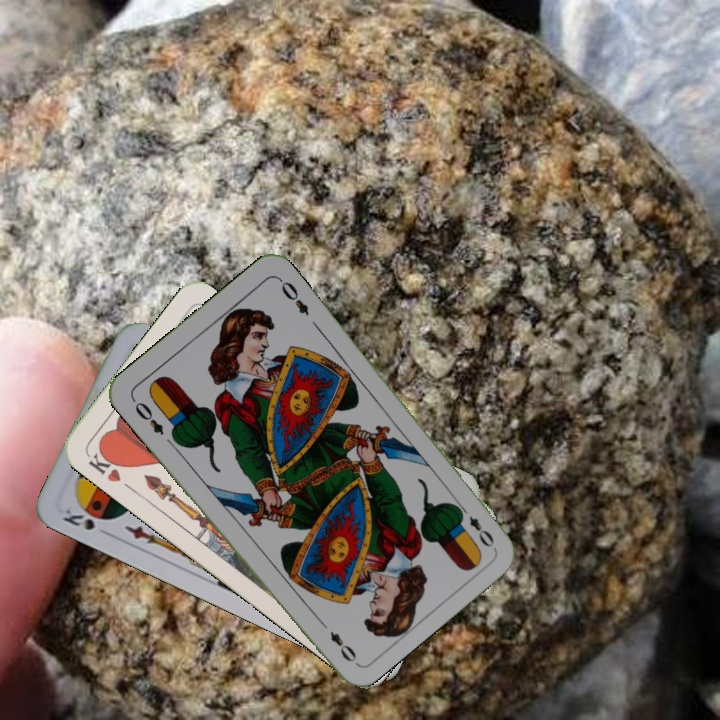EO: (453, 500, 497, 550), (128, 395, 167, 438)
HK: (83, 444, 126, 485)
SK: (58, 504, 113, 539)
